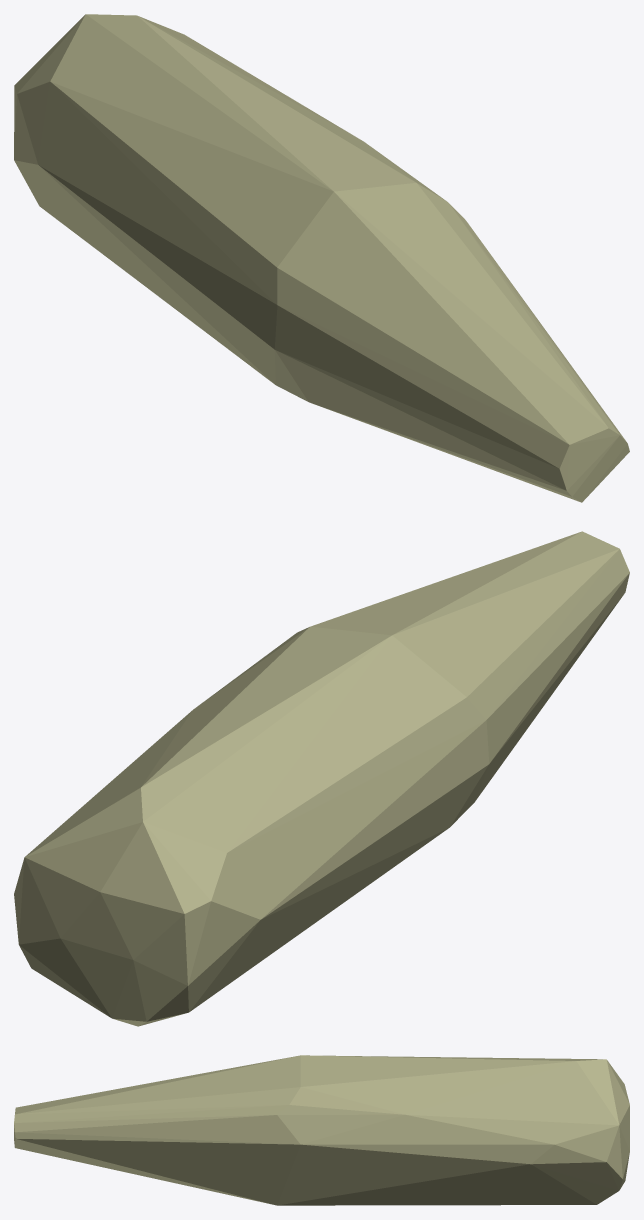
The model's file is food_beverage_beerBottle_e01.glb.
3 renders of one model, top to bottom at view 1: azimuth 30°, elevation 25°; view 2: azimuth 150°, elevation 25°; view 3: azimuth 270°, elevation 25°, orthographic. The views are drawn at different scales.
Visible parts, largest first — view 1: geometry_0; view 2: geometry_0; view 3: geometry_0.
Part boxes in pixels (left/top/right/bottom): geometry_0: left=14, top=14, right=629, bottom=502; geometry_0: left=14, top=531, right=629, bottom=1026; geometry_0: left=14, top=1055, right=629, bottom=1205.
Size of the model in its own units: 0.1213 by 0.1187 by 0.48.
